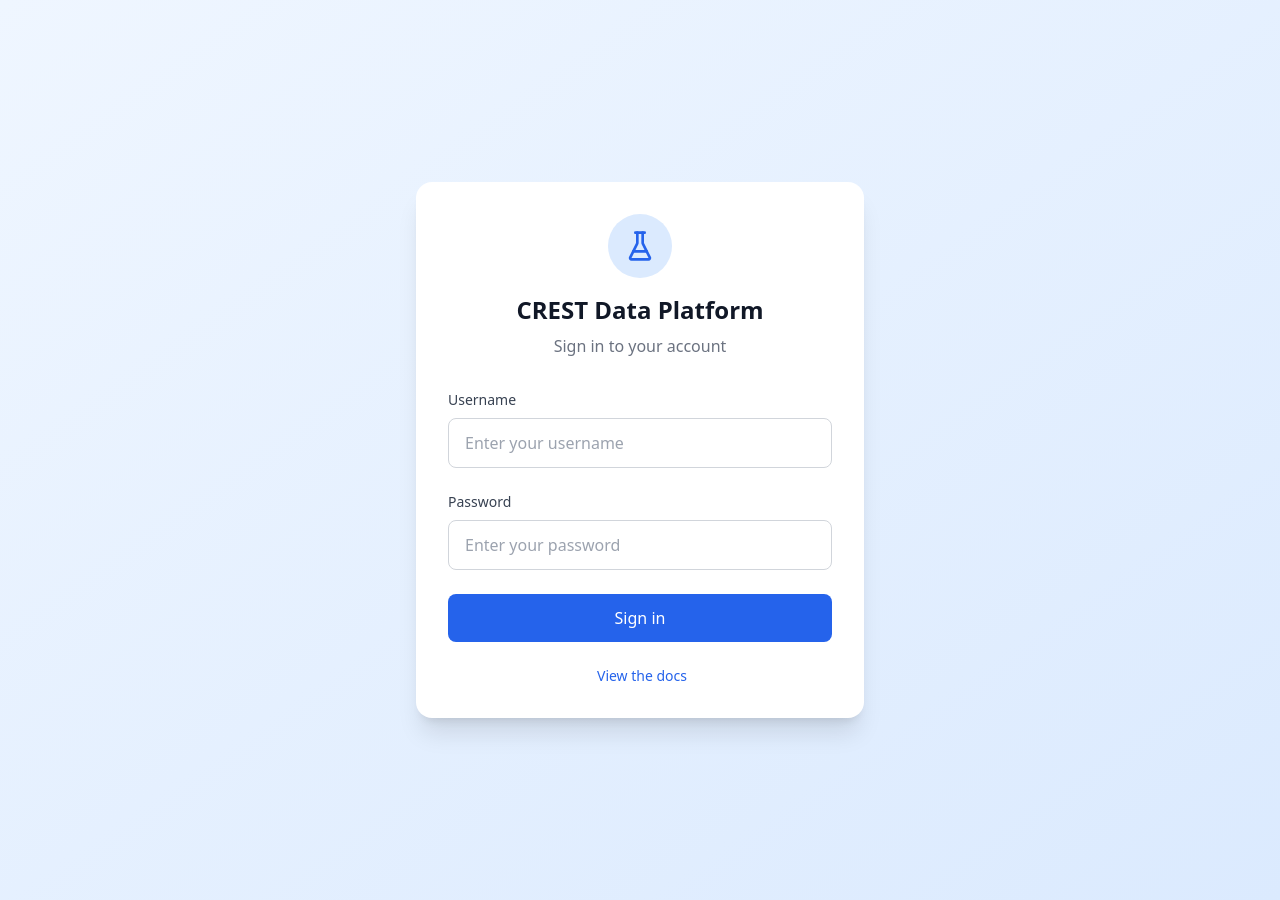
Scenario: LoginPage › displays error message on login failure
Type "wronguser" into the field labelled "Username".
click(640, 443); type("wronguser")  # box 448,418 -> 832,468
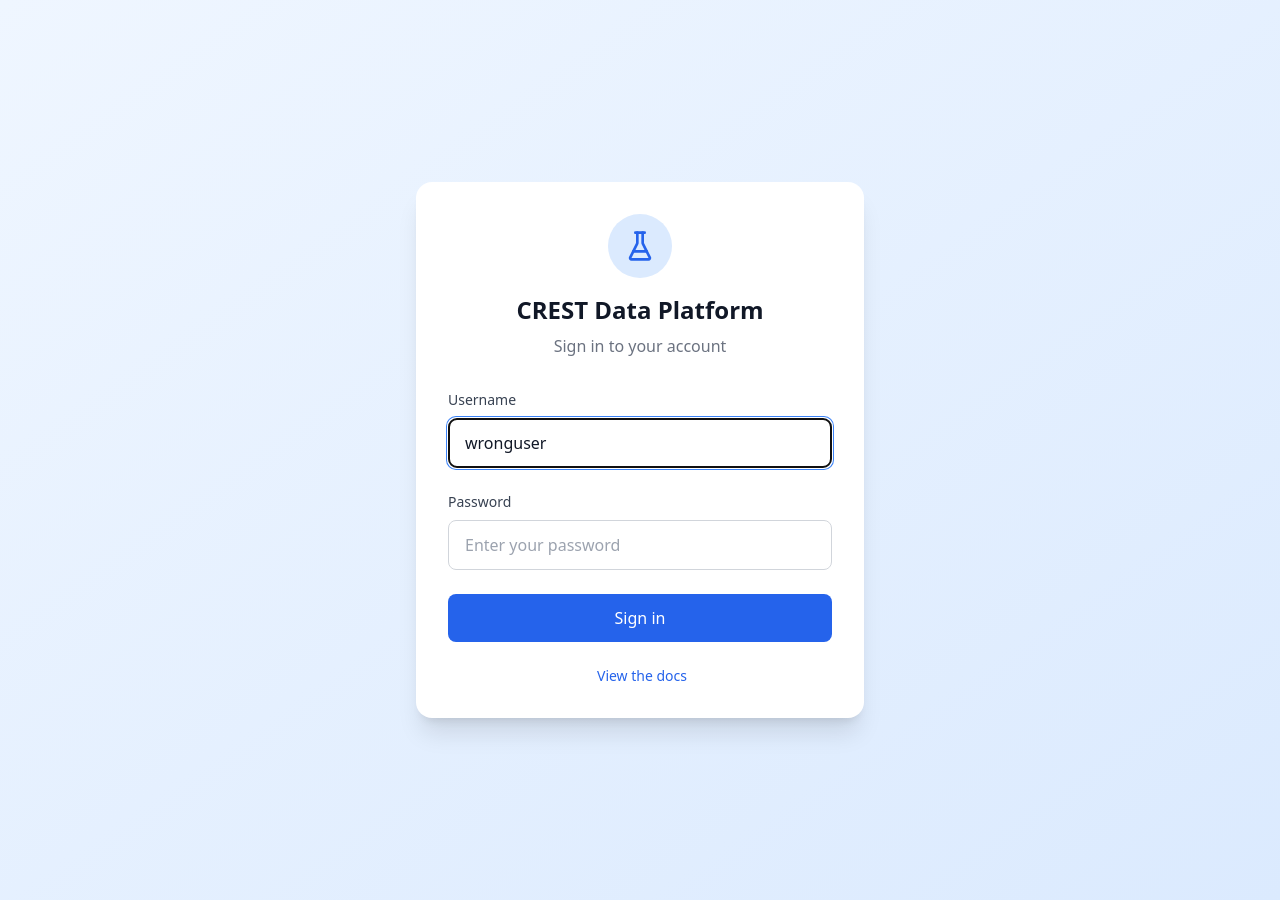
Type "wrongpass" into the password field labelled "Password".
click(640, 545); type("wrongpass")  # box 448,520 -> 832,570
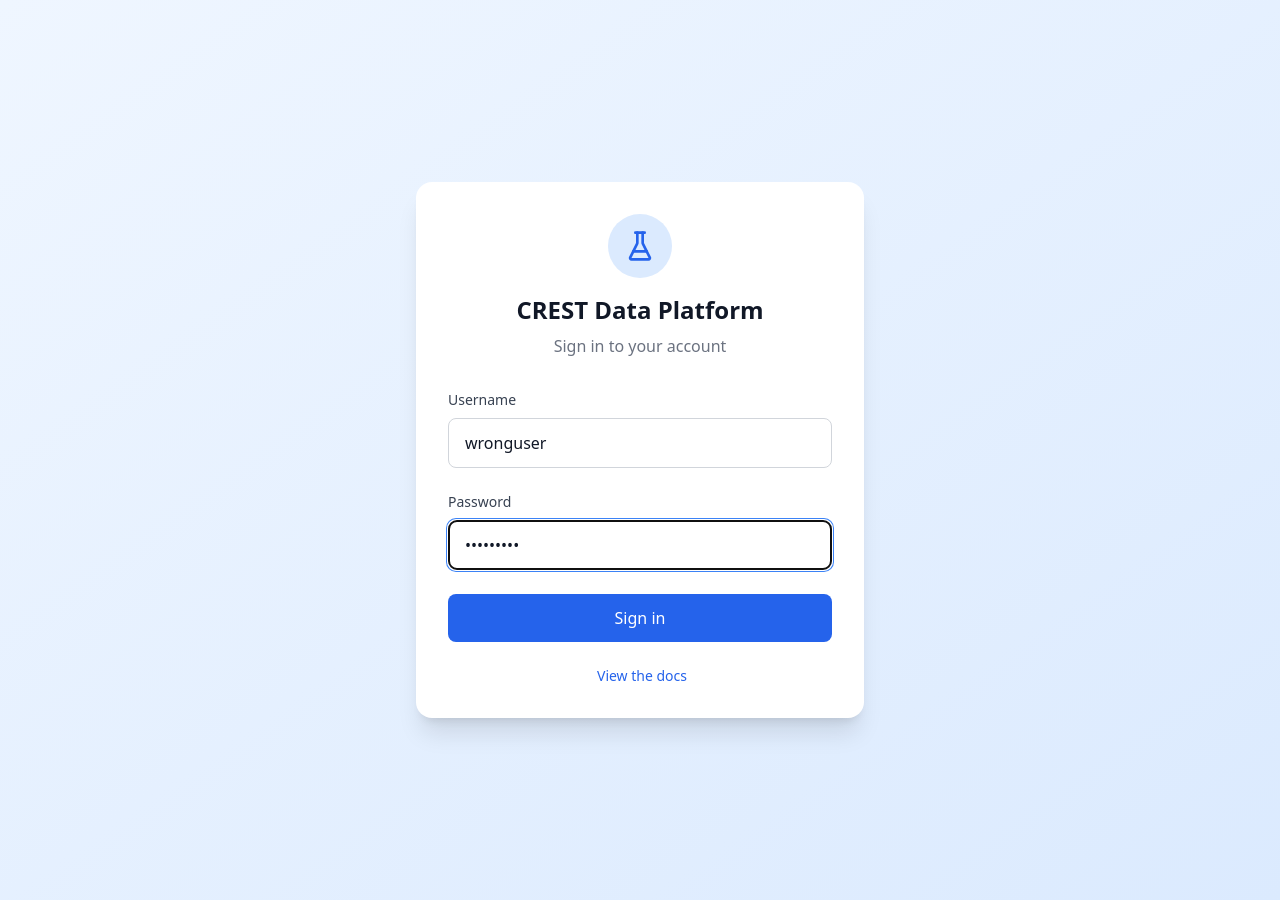
Click the button "Sign in".
click(640, 618)  # box 448,594 -> 832,642
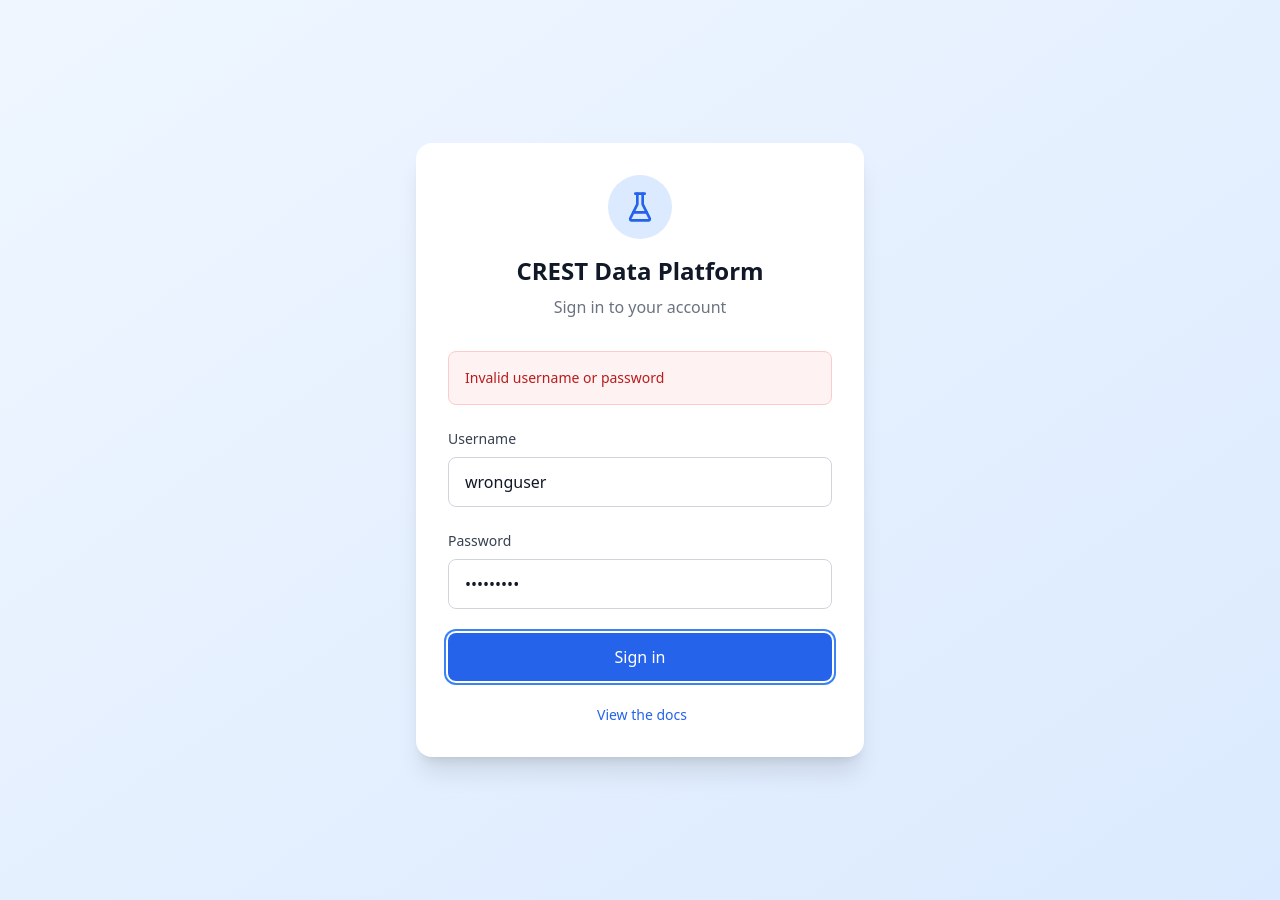
Now the text "Invalid username or password" is shown, box 448,351 -> 832,405
